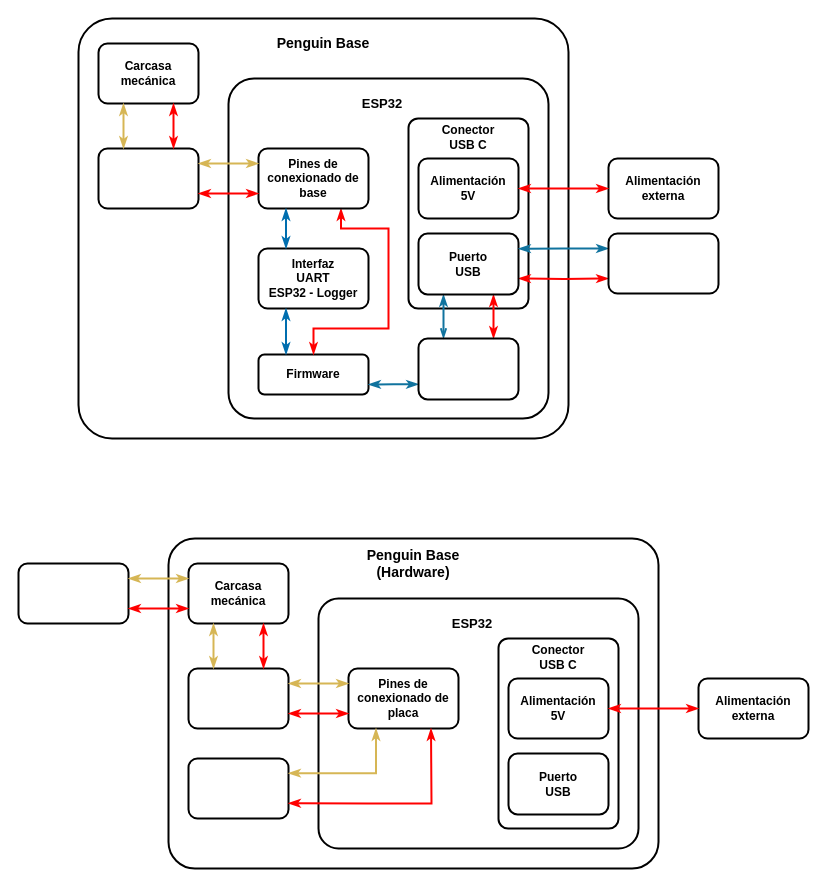
The diagram is 826 pixels wide and 886 high, and some of its shapes have lost their labels. Each missing label, with the centre of its shape:
"Circuito de generación de flanco y LEDs" belongs at (x=148, y=178).
"Circuito de generación de flancos." belongs at (x=238, y=698).
"Circuito de LEDs de estado" belongs at (x=238, y=788).
"Comandos de control (PC)" belongs at (x=663, y=263).
"Conversor UART - USB" belongs at (x=468, y=368).
"Pines de conexionado al Penguin Logger" belongs at (x=73, y=593).
